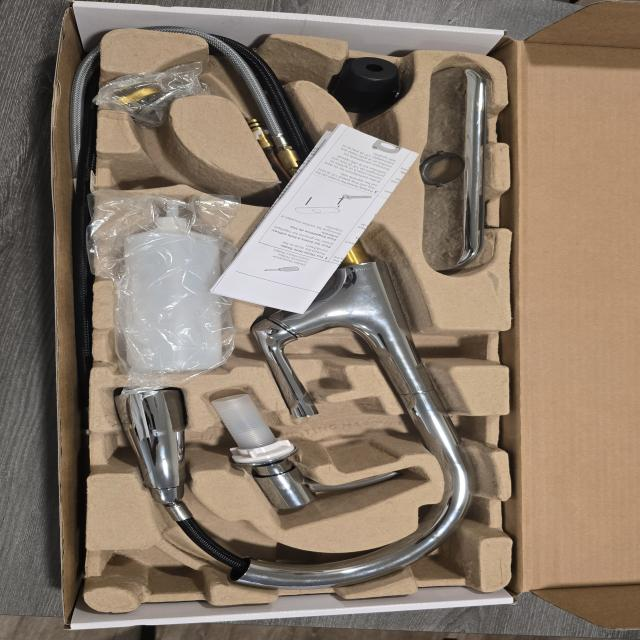1o: (117, 44, 480, 588)
2: (213, 392, 401, 513)
3: (125, 201, 222, 370)
4: (417, 64, 490, 274)
5: (332, 59, 405, 114)
6: (94, 62, 210, 127)
7m: (119, 143, 215, 189)
8: (210, 120, 420, 315)
